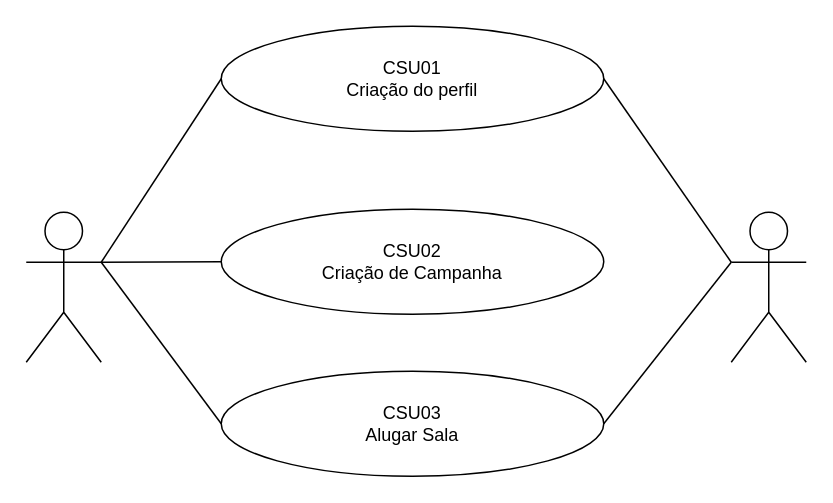
Image size: 833x503. Some labels were removed from this diagram. Here are the shapes that lost their labels. From the top down, the centre of each, then its label:
At point 63,286: "Mestre".
At point 768,286: "Jogador".
